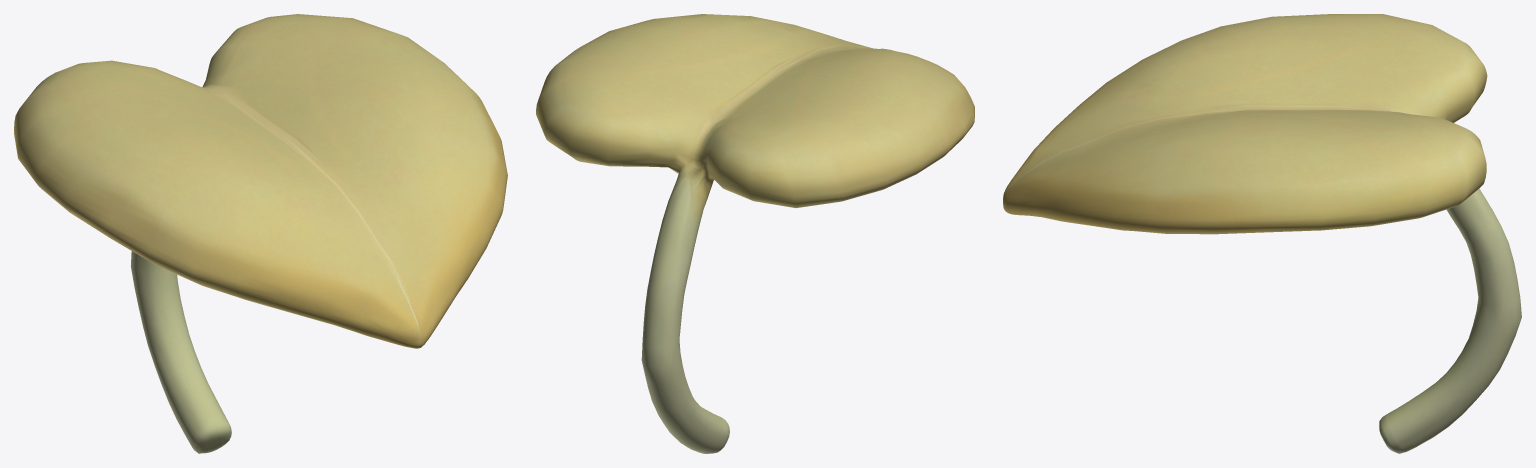
The model's file is heart_lime_2672_0_v2.glb.
The picture shows the model from 3 angles, left to right: view 1: azimuth 30°, elevation 25°; view 2: azimuth 150°, elevation 25°; view 3: azimuth 270°, elevation 25°; orthographic projection. The views are drawn at different scales.
Parts seen in each view (by area): view 1: world; view 2: world; view 3: world.
Boxes of the visible parts, x1,y1,x2,y2 form: world: [14, 14, 507, 453]; world: [536, 14, 974, 453]; world: [1003, 14, 1521, 453].
Size of the model in its own units: 1.71 by 1.57 by 2.
Materials: 1 (1 with a texture image).
